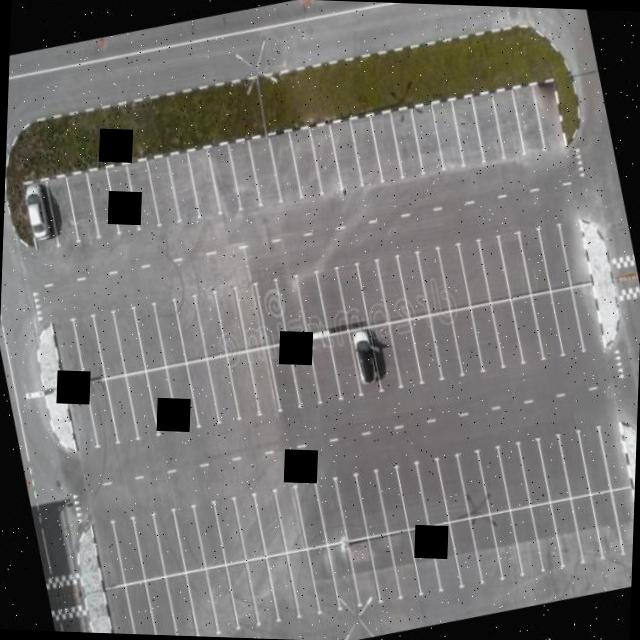car: (17, 174, 60, 250), (342, 317, 382, 398)
free: (382, 524, 426, 606), (463, 507, 508, 587), (524, 500, 570, 578), (282, 124, 326, 205), (304, 116, 348, 197), (543, 493, 588, 572), (326, 112, 370, 192), (503, 502, 548, 580), (583, 484, 628, 562), (361, 528, 405, 607), (484, 504, 528, 583), (442, 511, 486, 590), (339, 531, 384, 608), (261, 331, 304, 411), (260, 548, 304, 626), (565, 490, 609, 568), (300, 538, 344, 616), (364, 108, 408, 186), (241, 552, 285, 630), (324, 324, 368, 402), (102, 160, 144, 241), (282, 543, 326, 620), (344, 110, 386, 190), (264, 128, 306, 208), (304, 326, 346, 406), (280, 328, 322, 408), (221, 346, 264, 424), (202, 140, 245, 218), (321, 535, 365, 611), (220, 557, 264, 633), (444, 301, 488, 377), (483, 294, 527, 370), (402, 521, 444, 600), (183, 144, 226, 221), (505, 289, 548, 366), (224, 136, 266, 214), (427, 97, 469, 175), (242, 133, 284, 211), (466, 296, 508, 374), (466, 87, 508, 165), (424, 516, 466, 594), (122, 158, 164, 236), (424, 308, 467, 384), (201, 560, 244, 636), (523, 286, 566, 362), (139, 362, 182, 438), (544, 284, 588, 358), (406, 100, 448, 177), (384, 105, 426, 182), (486, 85, 528, 162), (384, 314, 426, 391), (446, 91, 488, 168), (62, 168, 104, 245), (404, 312, 447, 387), (143, 152, 185, 228), (42, 172, 84, 248), (162, 148, 204, 224), (508, 81, 550, 157), (120, 368, 162, 444), (162, 358, 204, 434), (210, 283, 253, 357), (85, 516, 128, 590), (572, 423, 615, 497), (364, 316, 404, 395), (81, 164, 122, 241), (242, 344, 284, 419), (200, 351, 242, 426), (108, 514, 150, 588), (250, 486, 292, 560), (79, 376, 121, 450), (411, 455, 453, 529), (184, 354, 226, 428), (532, 220, 574, 294), (595, 416, 637, 490), (180, 564, 223, 636), (532, 431, 574, 504), (101, 373, 142, 447), (392, 458, 433, 532), (288, 478, 330, 550), (210, 494, 252, 566), (126, 508, 168, 580), (106, 306, 148, 378), (63, 378, 103, 452), (191, 288, 232, 360), (167, 501, 208, 573), (331, 468, 372, 540), (432, 452, 473, 524), (472, 441, 513, 513), (189, 498, 230, 570), (308, 472, 349, 544), (452, 238, 493, 310), (350, 466, 391, 538), (268, 483, 309, 555), (229, 490, 270, 562), (513, 224, 554, 296), (48, 314, 89, 386), (159, 566, 201, 636), (88, 308, 128, 381), (552, 427, 592, 500), (451, 446, 492, 517), (474, 232, 515, 303), (371, 253, 412, 324), (370, 462, 410, 534), (170, 292, 210, 364), (128, 302, 168, 374), (494, 438, 534, 510), (148, 504, 188, 576), (514, 434, 554, 506), (492, 228, 533, 298), (411, 246, 452, 316), (394, 250, 434, 321), (68, 312, 108, 383), (229, 282, 269, 353), (150, 298, 190, 369), (434, 242, 474, 312), (312, 264, 353, 332), (334, 260, 374, 329), (252, 278, 291, 348), (349, 258, 389, 326), (292, 268, 332, 336), (140, 571, 183, 634), (272, 273, 310, 342), (118, 576, 161, 634), (604, 480, 635, 557), (624, 478, 634, 556)
